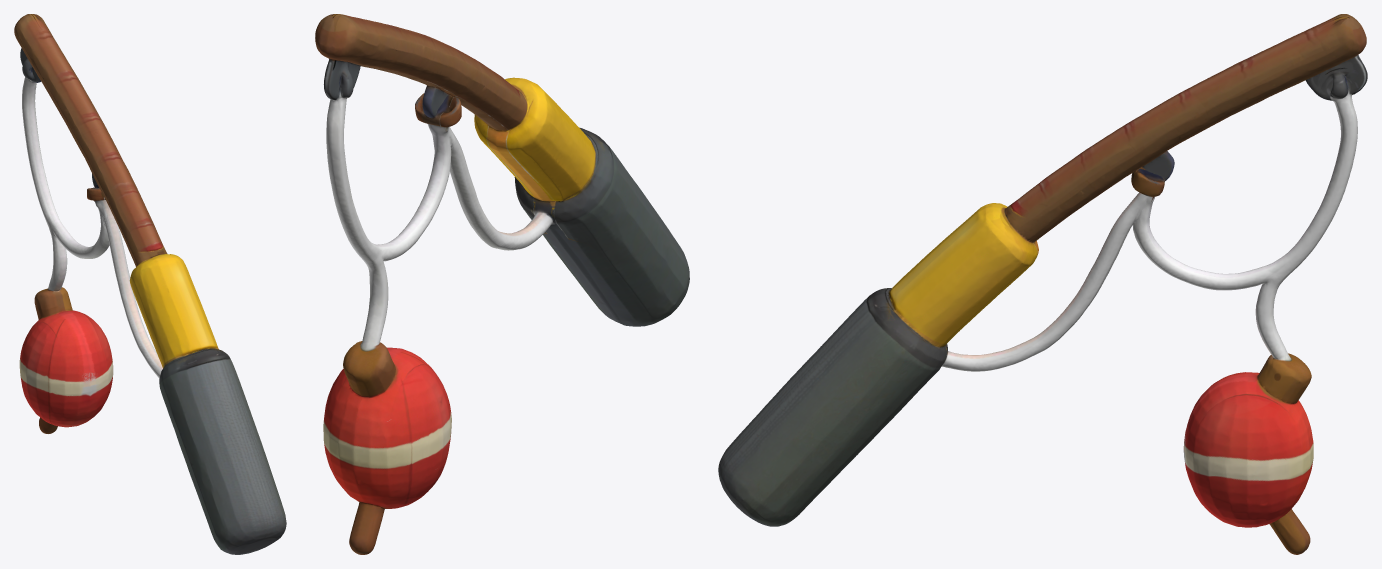
The model's file is fishing_rod.glb.
3 renders of one model, left to right at view 1: azimuth 30°, elevation 25°; view 2: azimuth 150°, elevation 25°; view 3: azimuth 270°, elevation 25°, orthographic. The views are drawn at different scales.
Bounding box in the file's own units: 0.3811 × 1.83 × 2.
1 material, 1 textured.
